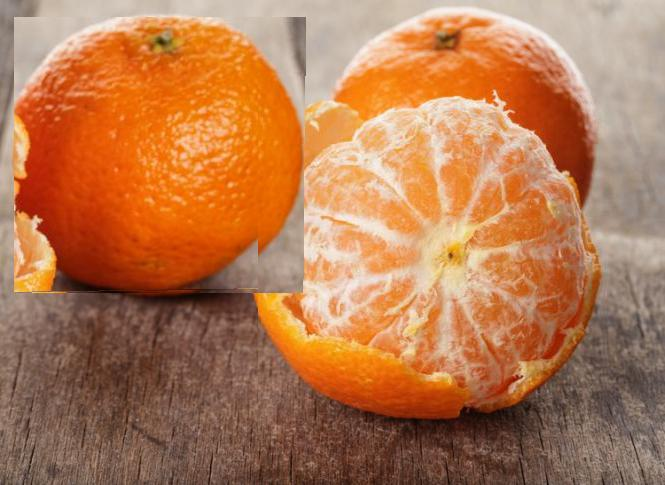Orange Fresh: (259, 76, 608, 399), (14, 18, 306, 294)
